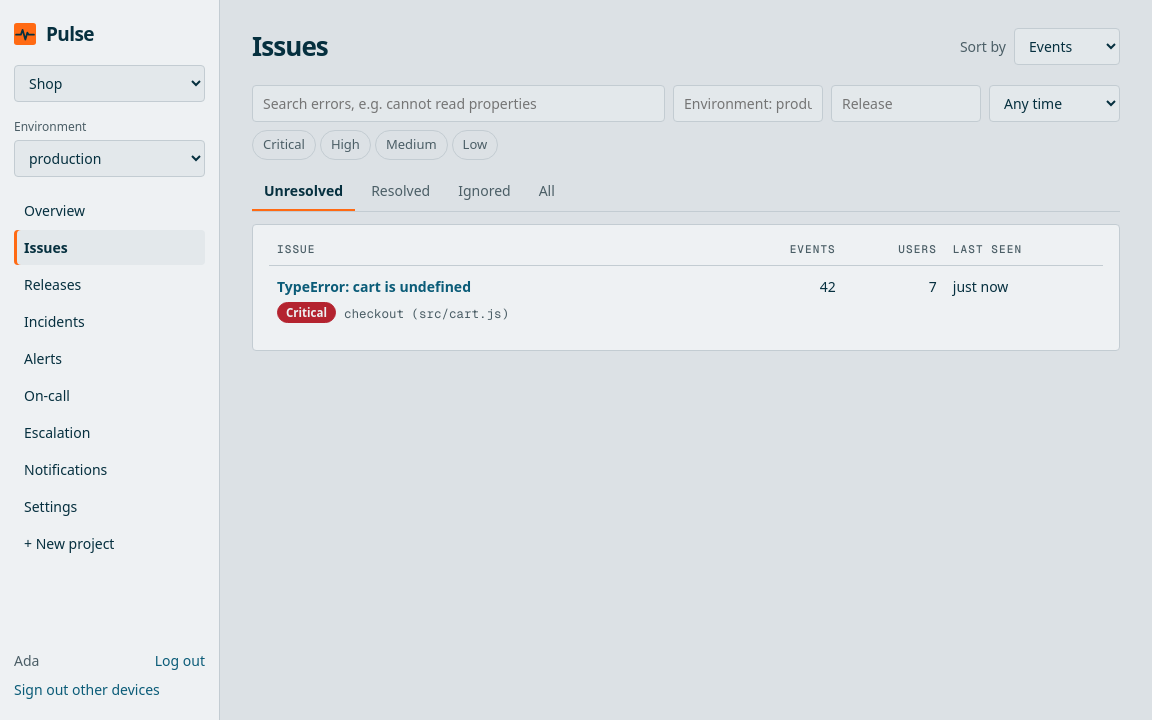
Scenario: issue filters › toggles severities in a fixed order and clears all filters
Expected: the link "TypeError: cart is undefined" is shown, [277,277,471,296]
Click the button "low": (475, 145) [452,130,498,160]
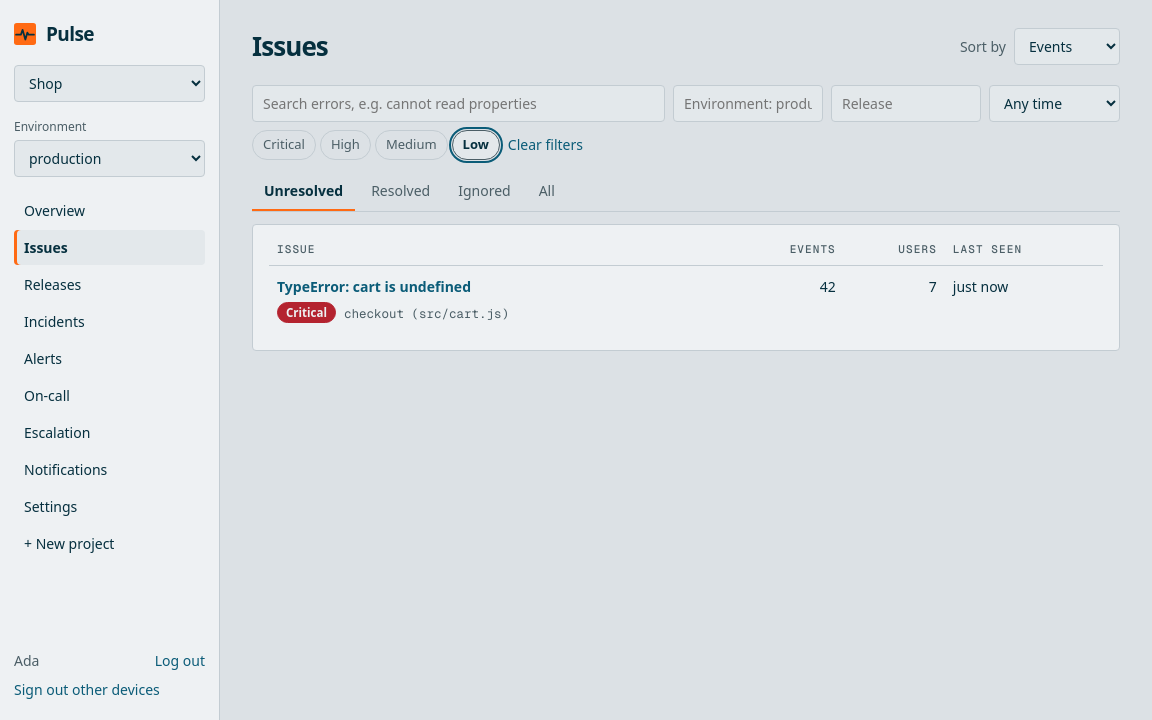
Click the button "critical": (284, 145) [252,130,316,160]
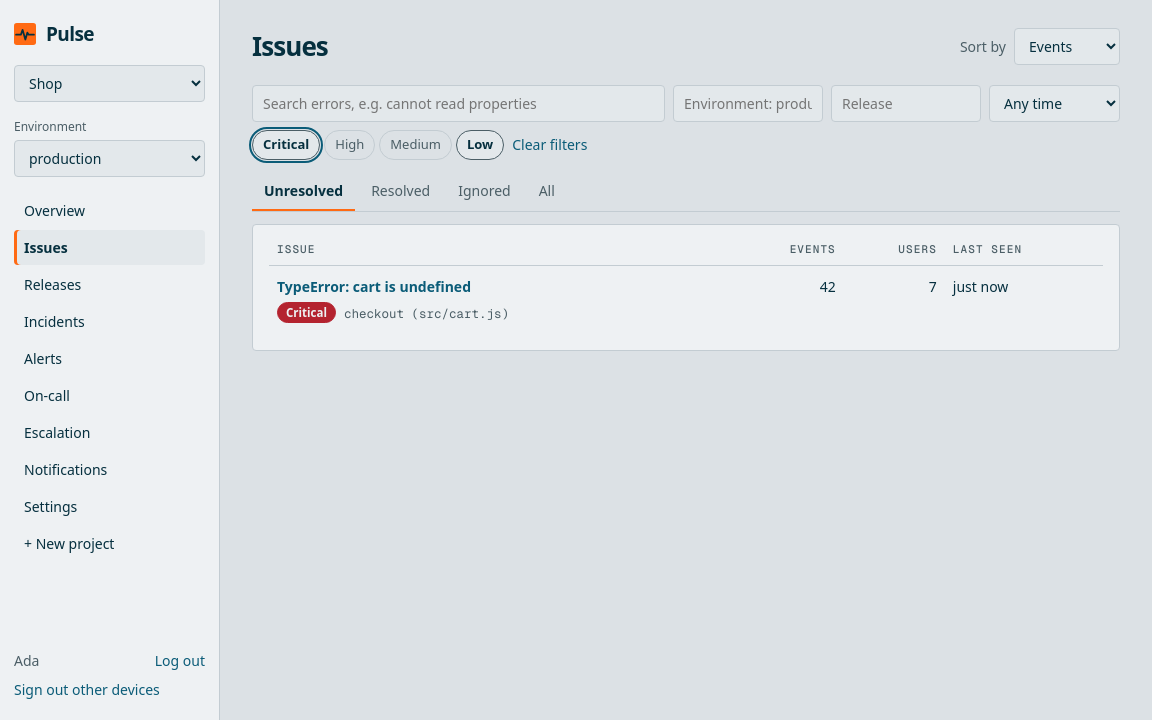
Click the button "low": (480, 145) [456,130,504,160]
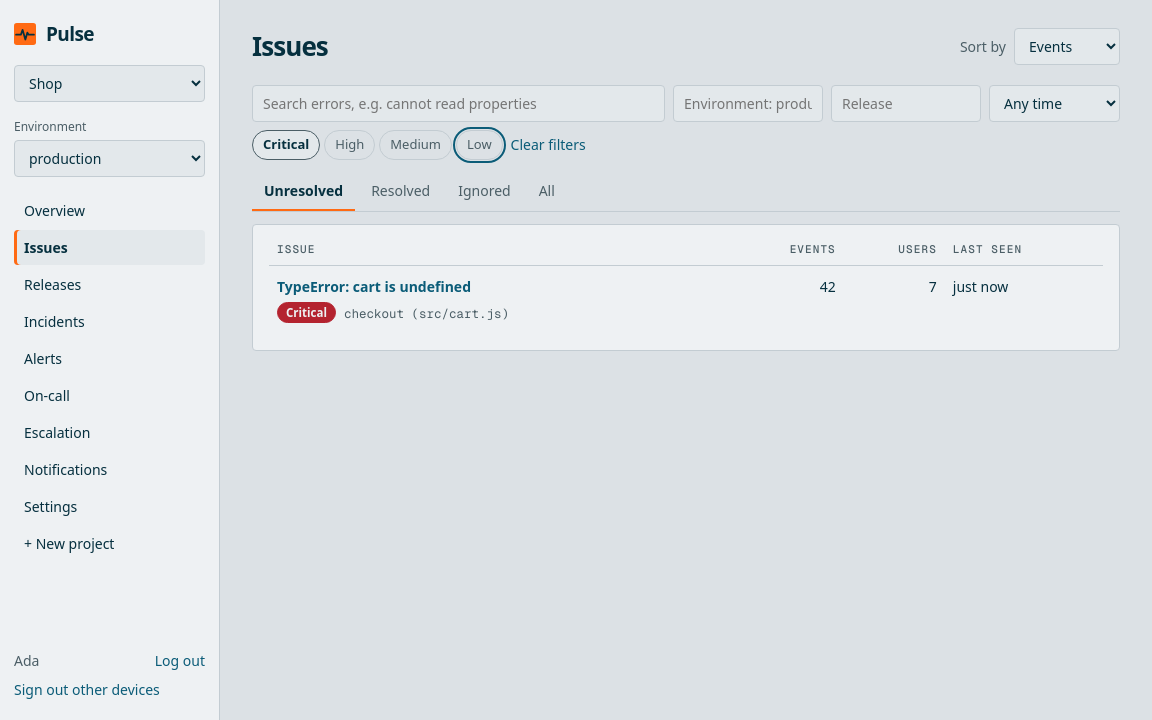
Expected: the button "critical" is shown, [252,130,320,160]
Click the button "Clear filters": (548, 145) [511,134,586,155]
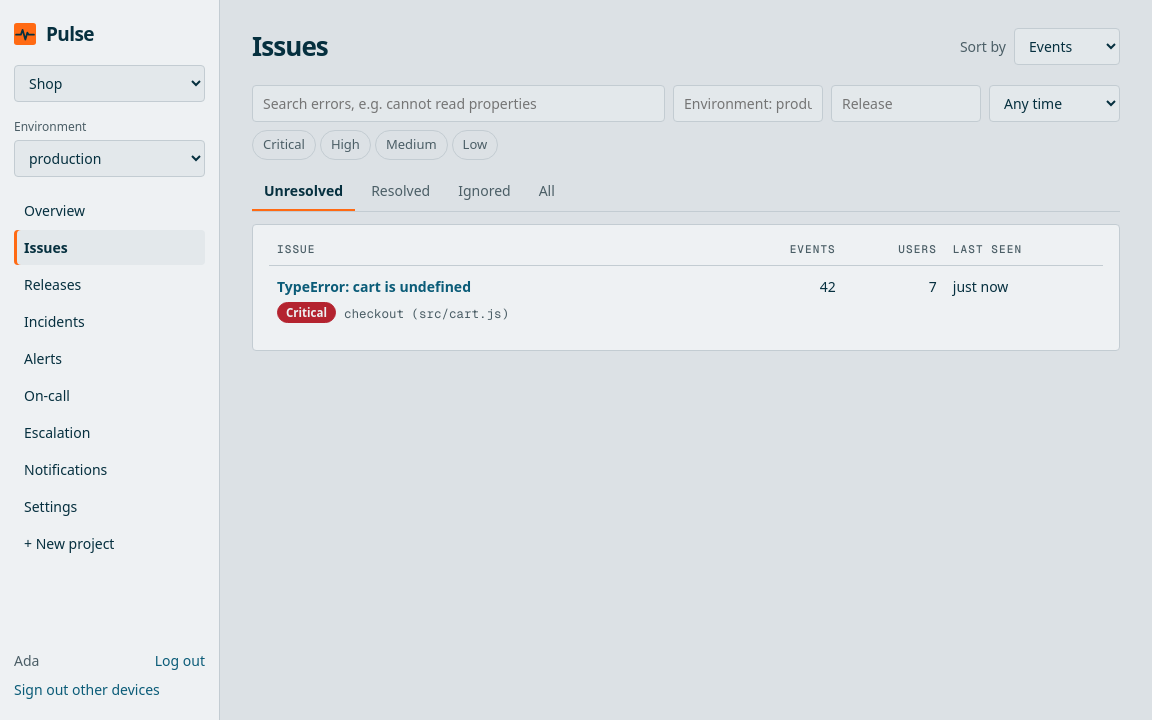
Expected: the button "Clear filters" is gone
